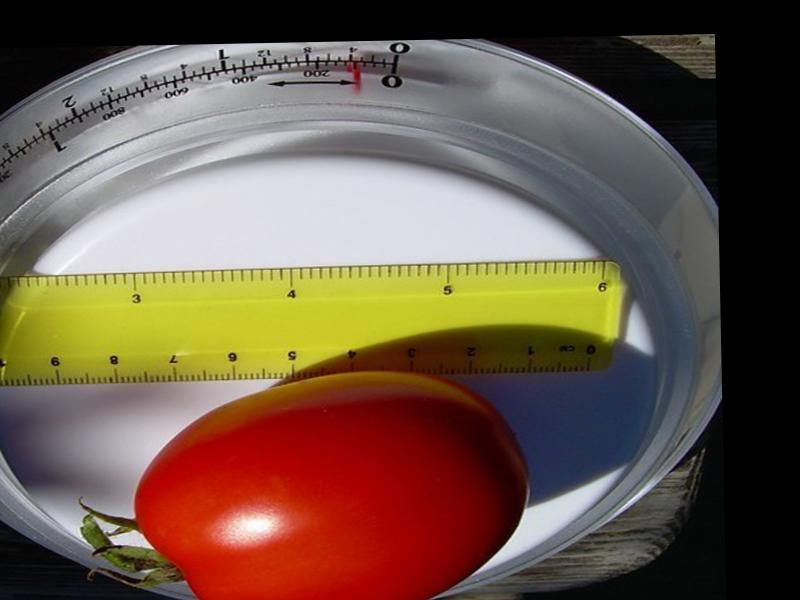Tomato: (129, 361, 528, 600)
